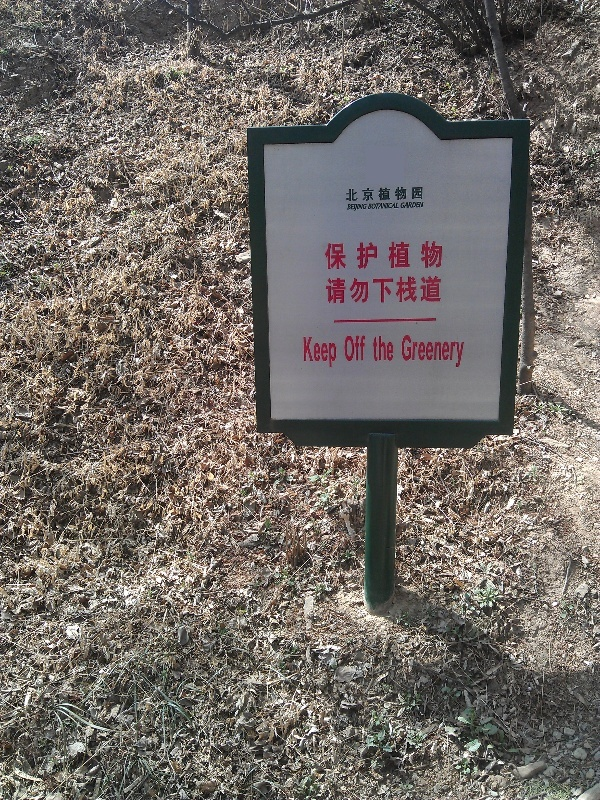text: (449, 335, 465, 368), (321, 336, 337, 369), (401, 335, 416, 368), (417, 335, 432, 368), (433, 335, 448, 368), (305, 336, 320, 369), (337, 240, 352, 271), (353, 240, 368, 271), (369, 240, 384, 271), (385, 240, 400, 271), (401, 240, 416, 271), (417, 240, 432, 271), (337, 276, 352, 304), (353, 276, 368, 304), (369, 276, 384, 304), (385, 276, 400, 304), (401, 276, 416, 304), (417, 276, 432, 304), (353, 335, 367, 362), (325, 240, 336, 271), (433, 240, 443, 271), (325, 276, 336, 304), (373, 335, 384, 362), (385, 335, 395, 362), (433, 276, 442, 304), (353, 186, 368, 202), (369, 186, 384, 202), (385, 186, 400, 202), (401, 186, 416, 202), (345, 335, 352, 362), (353, 203, 367, 212), (417, 186, 424, 202), (369, 203, 384, 210), (385, 203, 400, 210), (401, 202, 416, 209), (346, 186, 352, 202), (417, 202, 424, 209), (347, 203, 352, 212), (303, 336, 304, 369)
